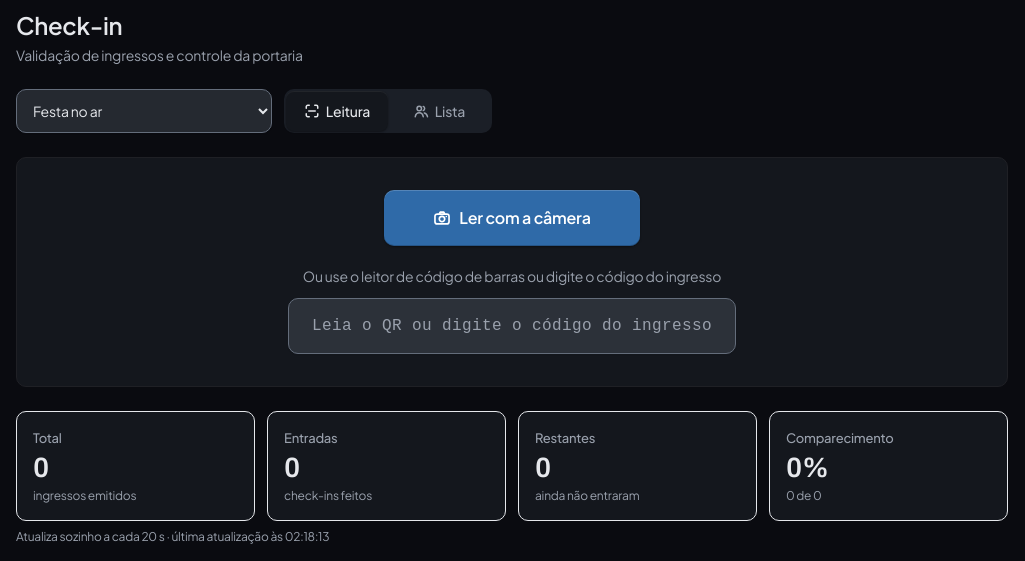
Test: Check-in da equipe › lista vem de team_lista_ingressos, sem botão de confirmar e sem ler tickets direto
Click the radio button labelled "Lista" at point(439, 111), box [388,91,490,131]
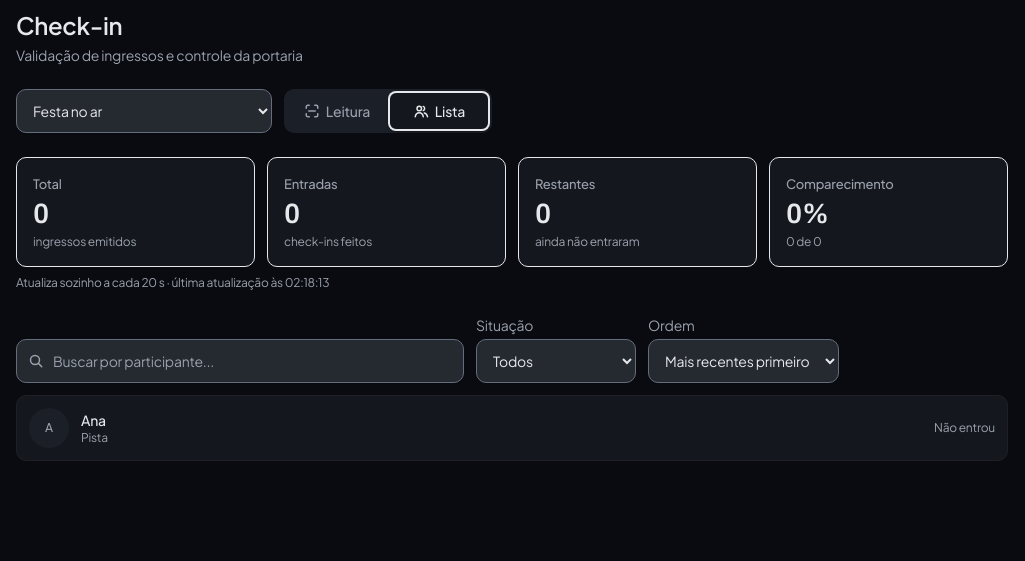
expect the text "Ana" is shown: met, box [81,411,106,429]
expect the text "Pista" is shown: met, box [81,430,108,445]
